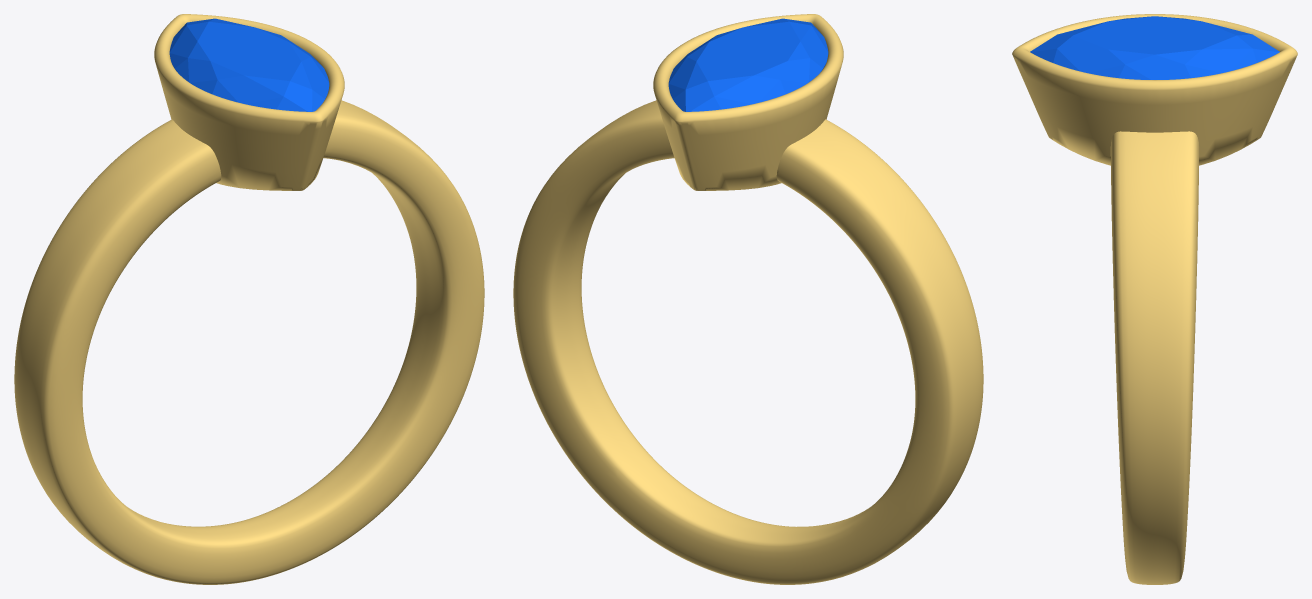
The model's file is bluesapphire-marquise-yellowgold-bezelset-straighttaperedband-nosidestones.glb.
3 renders of one model, left to right at view 1: azimuth 30°, elevation 25°; view 2: azimuth 150°, elevation 25°; view 3: azimuth 270°, elevation 25°, orthographic.
Visible parts, largest first — view 1: metal.002, stone; view 2: metal.002, stone; view 3: metal.002, stone.
Part boxes in pixels (x1=…): metal.002: x1=14, y1=14, x2=484, y2=584; stone: x1=169, y1=18, x2=329, y2=111; metal.002: x1=513, y1=14, x2=983, y2=584; stone: x1=668, y1=18, x2=828, y2=111; metal.002: x1=1012, y1=14, x2=1297, y2=584; stone: x1=1030, y1=16, x2=1279, y2=79.
Bounding box in the file's own units: 20.48 × 22.93 × 11.31.
